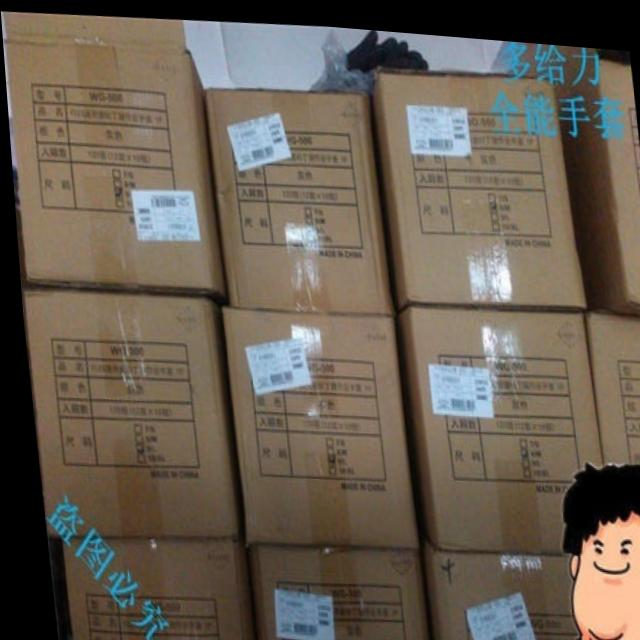box: (3, 13, 220, 294), (18, 291, 233, 539), (370, 62, 586, 304), (392, 301, 596, 547), (218, 305, 411, 540), (202, 84, 392, 309), (559, 49, 640, 300), (54, 536, 245, 640), (241, 541, 420, 640), (415, 535, 570, 640), (583, 296, 640, 457)
